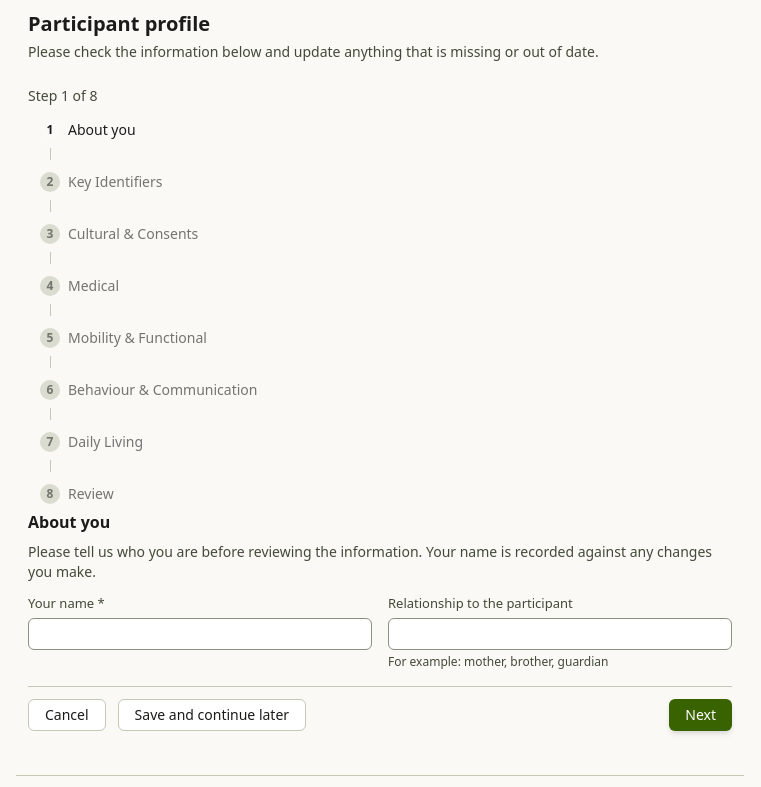
Test case: Caregiver wizard: no un-spanned child of a formGrid on any step › About You, then every step it walks through with Next
Type "Jane Doe" into the field labelled "Your name *" at (200, 634), box x1=28 y1=618 x2=372 y2=650
Click the button "Next" at (701, 714), box x1=669 y1=698 x2=732 y2=730
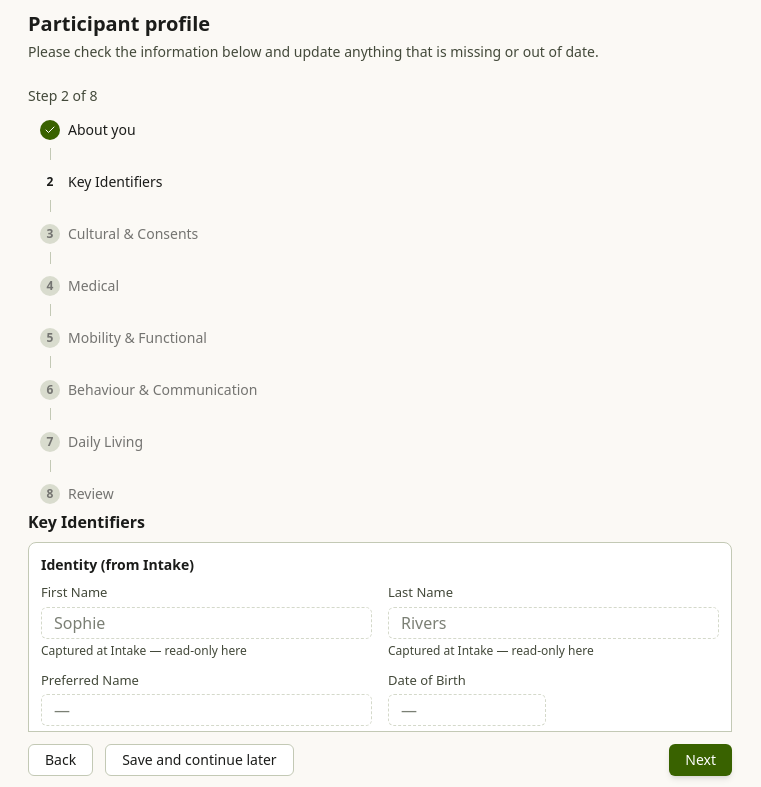
Click the button "Next" at (701, 760), box x1=669 y1=744 x2=732 y2=776
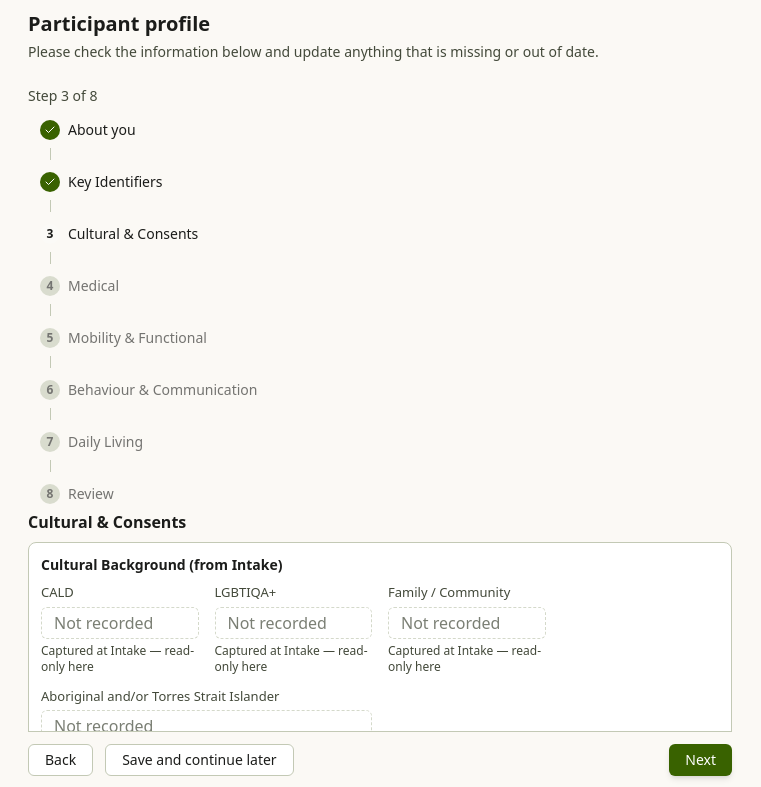
Click the button "Next" at (701, 760), box x1=669 y1=744 x2=732 y2=776
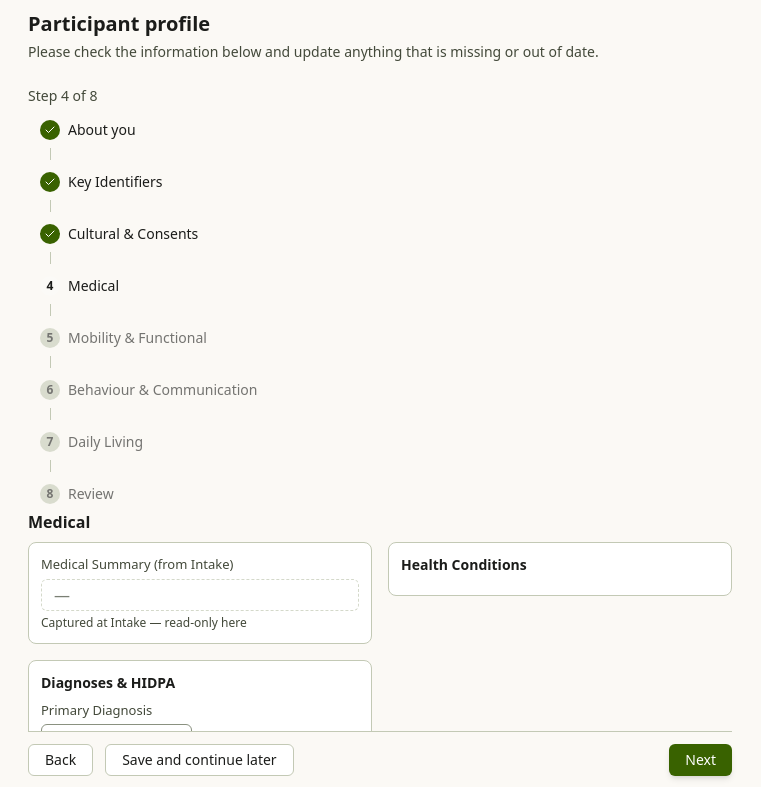
Result: the dropdown labelled "Primary Diagnosis" is shown at x1=41 y1=724 x2=192 y2=756
Click the button "Next" at (701, 760), box x1=669 y1=744 x2=732 y2=776
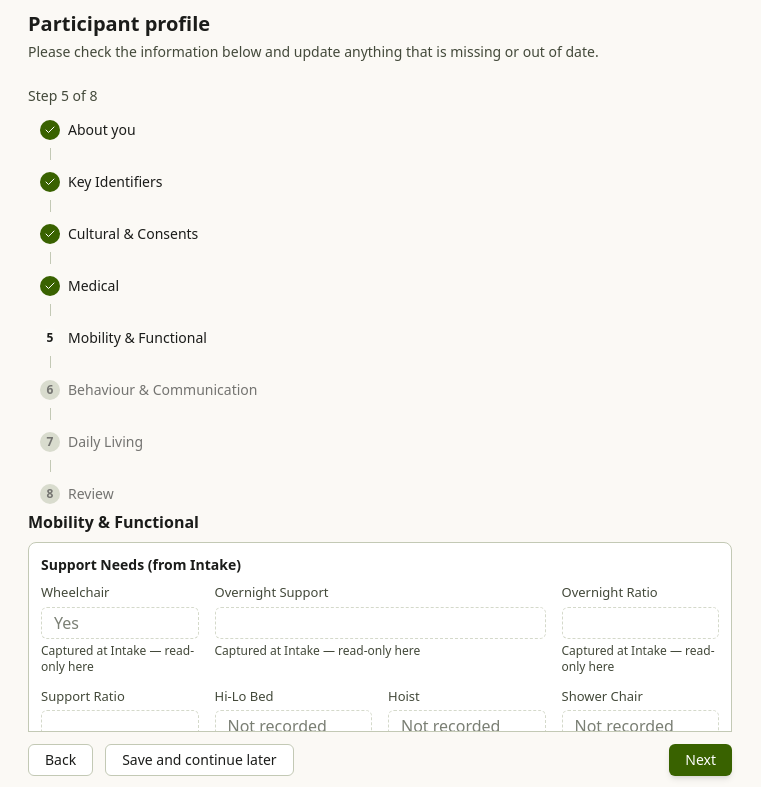
Click the button "Next" at (701, 760), box x1=669 y1=744 x2=732 y2=776
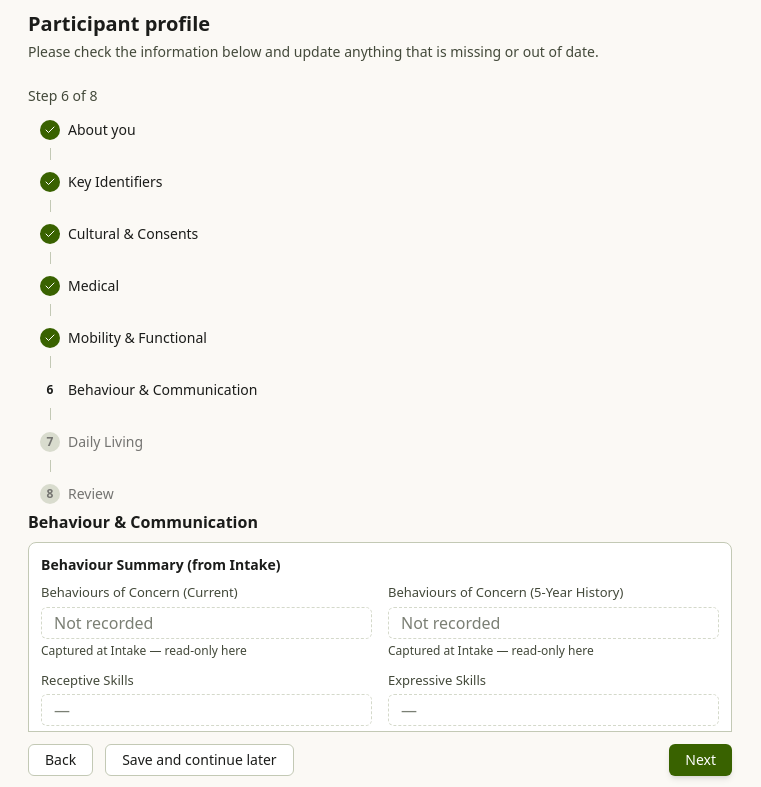
Result: the heading "Behaviour Summary (from Intake)" is shown at x1=41 y1=555 x2=280 y2=575
Click the button "Next" at (701, 760), box x1=669 y1=744 x2=732 y2=776
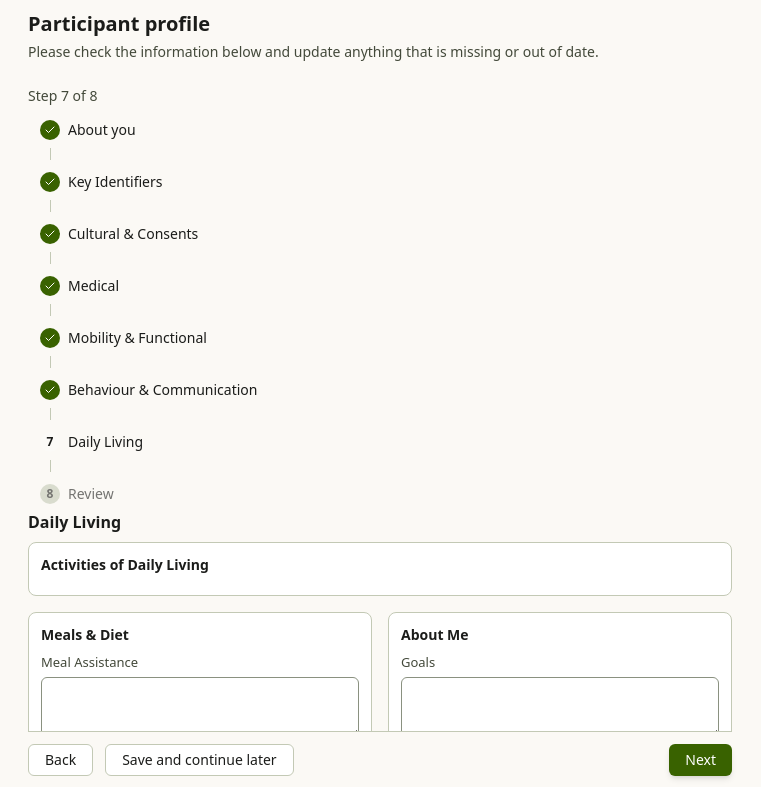
Result: the heading "Activities of Daily Living" is shown at x1=41 y1=555 x2=209 y2=575
